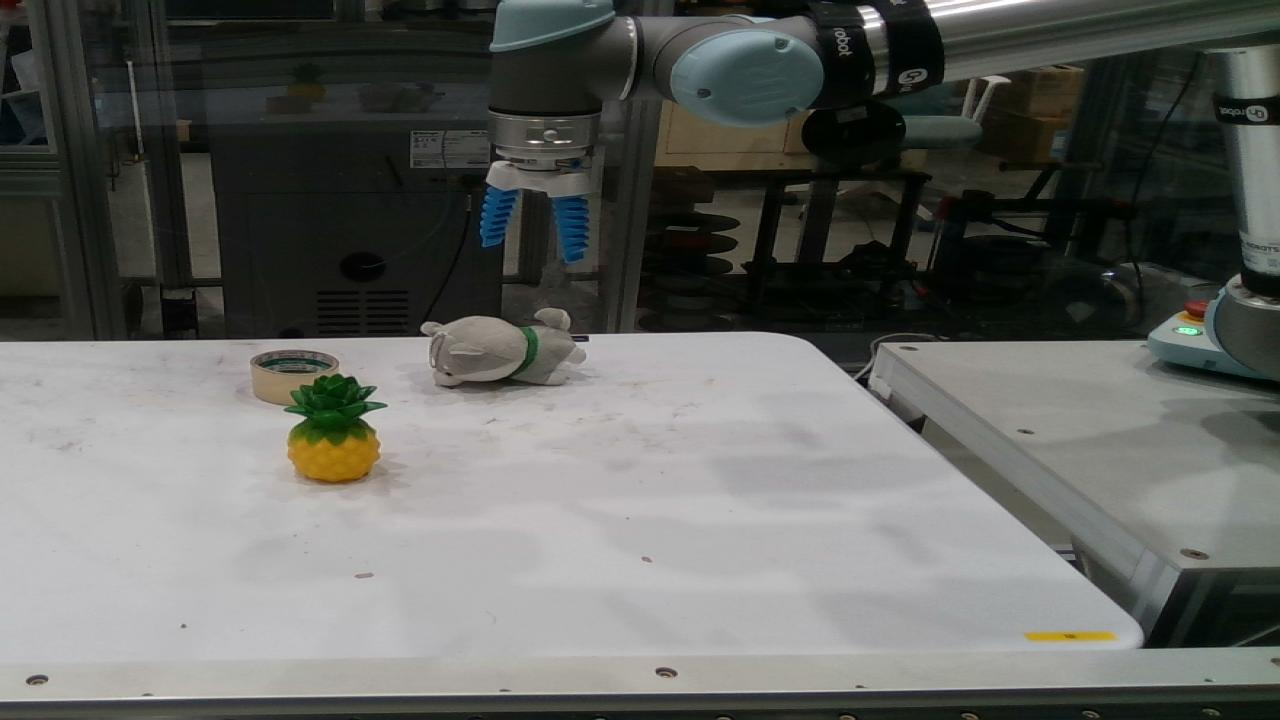UR5: (488, 0, 1279, 383)
gripper_left: (481, 185, 520, 247)
gripper_right: (555, 196, 588, 261)
target: (421, 308, 587, 388), (283, 373, 390, 482), (250, 349, 340, 405)
